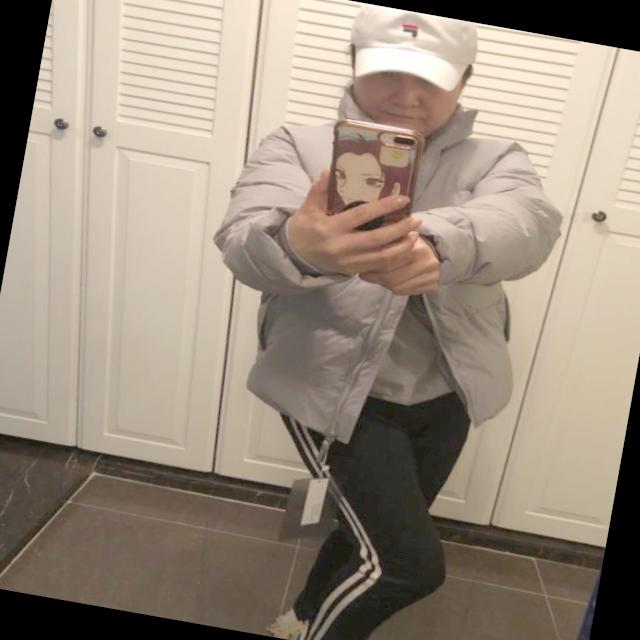padding: (179, 64, 579, 476)
trainingpants: (239, 368, 478, 640)
